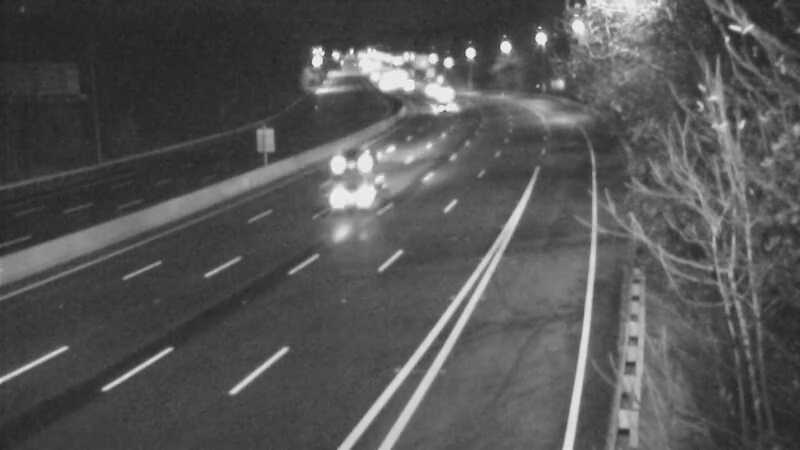vehicle: (308, 120, 388, 200), (311, 158, 391, 238), (400, 62, 450, 112), (421, 70, 471, 120), (414, 83, 464, 133)
